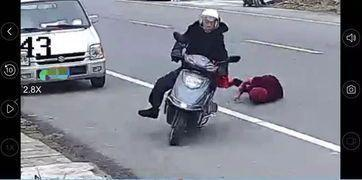Fall-Detected: (228, 66, 288, 107)
